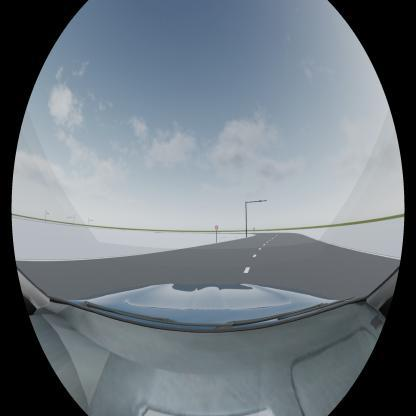Red Light: (259, 200, 263, 202)
